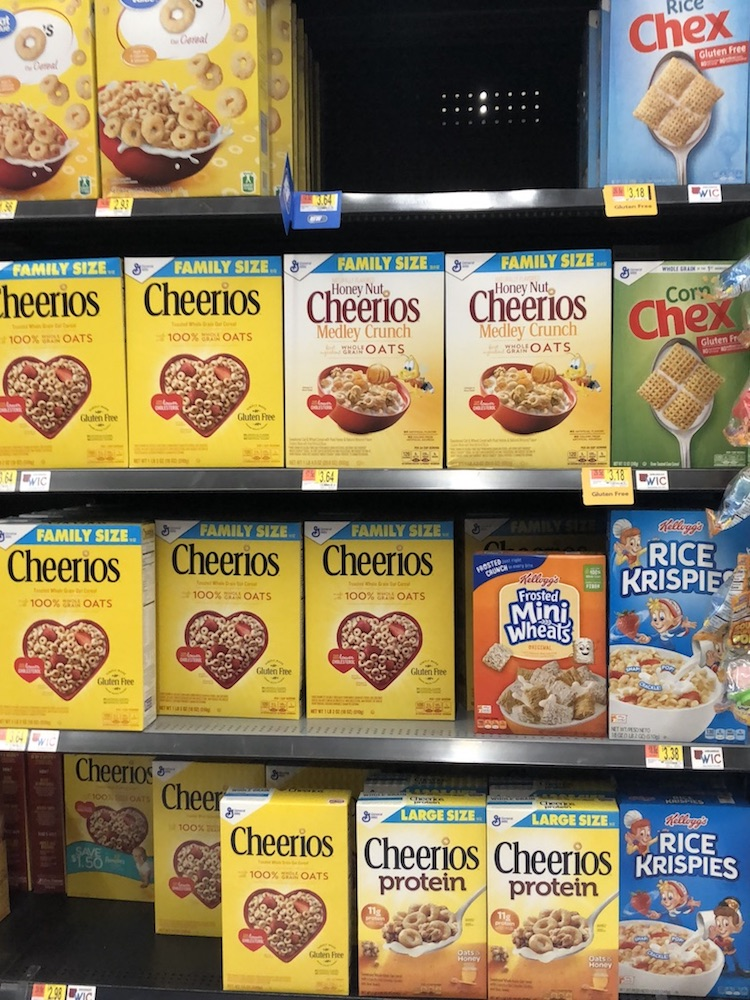Frosted Mini Original -9295869: (473, 548, 610, 744)
